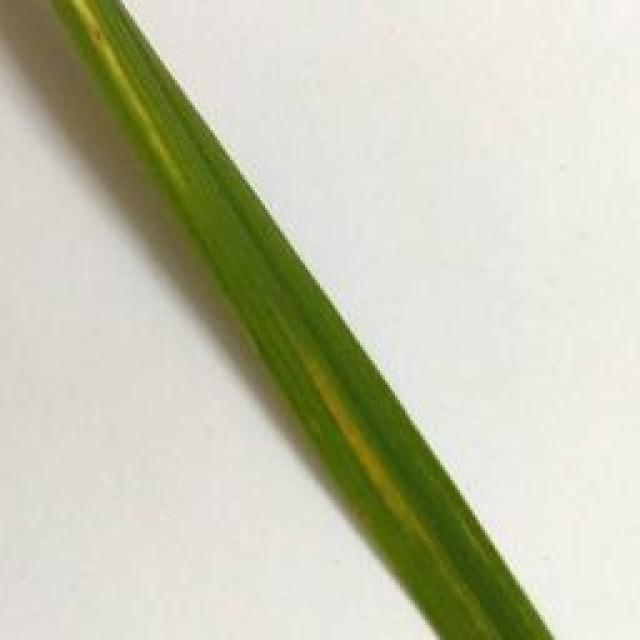Bacterial_Blight: (271, 342, 471, 584), (66, 0, 195, 203)
